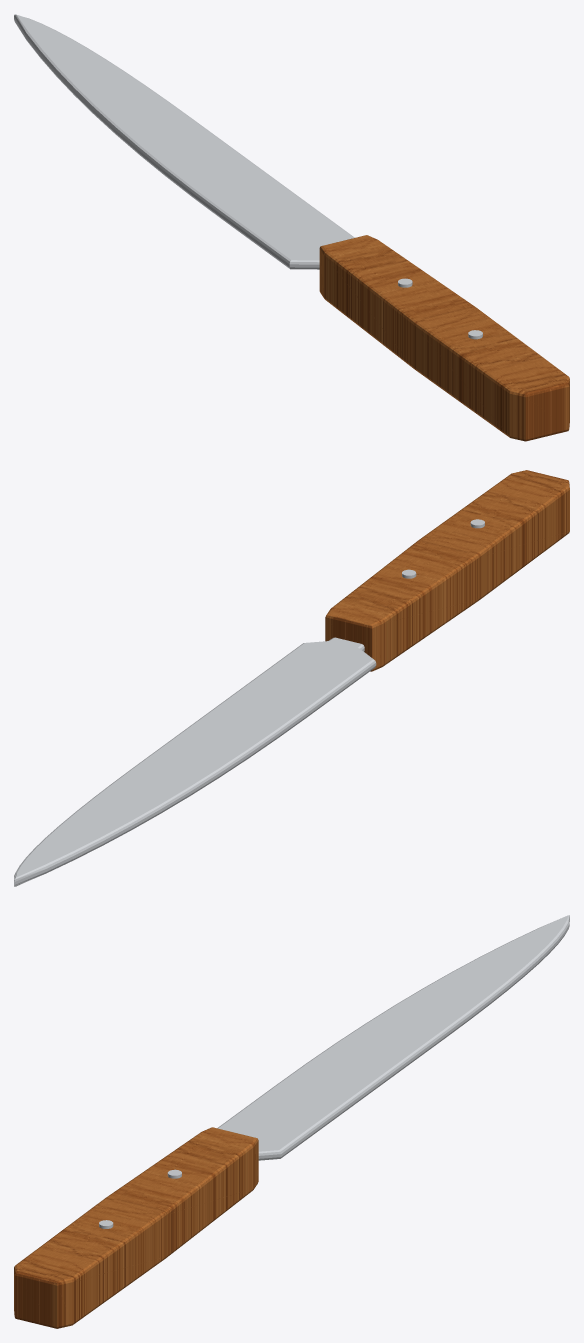
Rendered from CUB-42.glb.
The picture shows the model from 3 angles, top to bottom: view 1: azimuth 30°, elevation 25°; view 2: azimuth 150°, elevation 25°; view 3: azimuth 330°, elevation 25°; orthographic projection. The views are drawn at different scales.
Size of the model in its own units: 0.0258 by 0.017 by 0.3222.
Materials: 4 (1 with a texture image).
